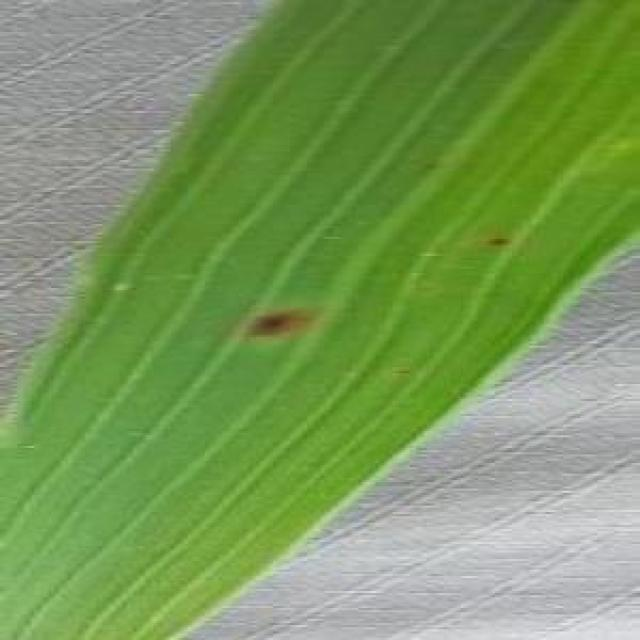Brown_Spot: (242, 306, 313, 342), (478, 232, 517, 259)
